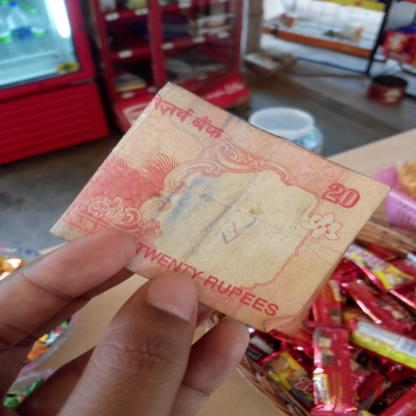Old20Back: (58, 82, 369, 328)
